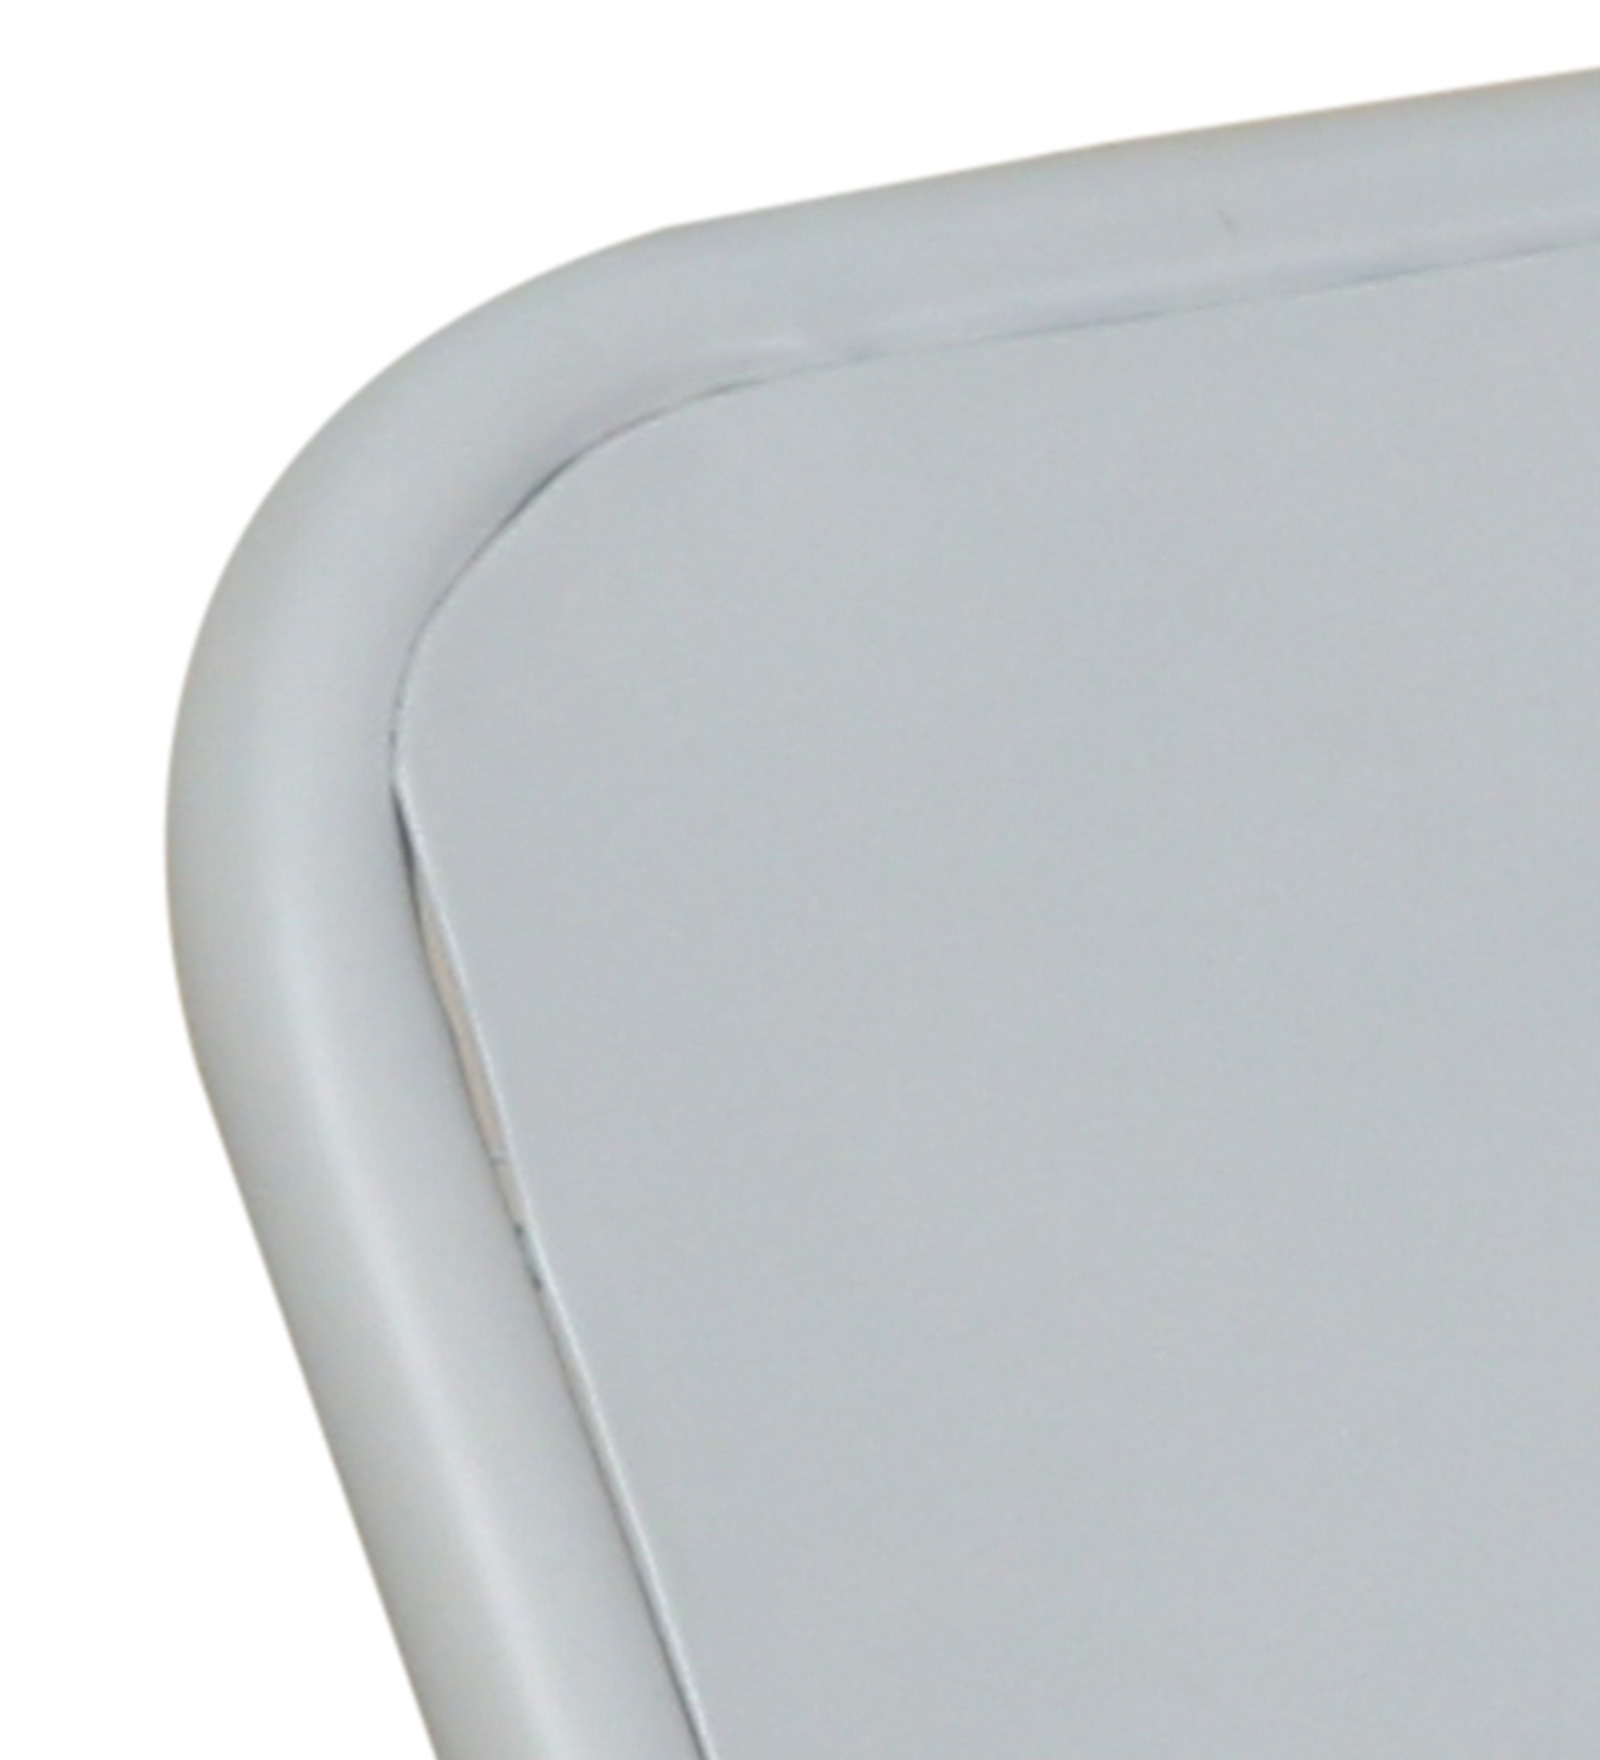Kell Folding Chair (Set of 2) in White Color by Bohemiana: (123, 54, 1579, 1760)
